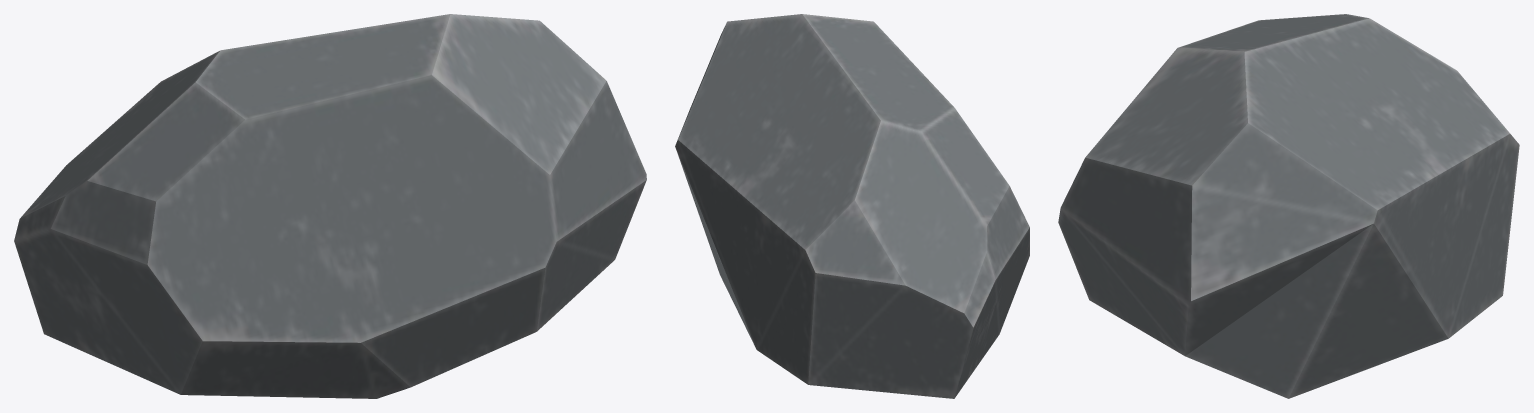
The model's file is rock4.glb.
The picture shows the model from 3 angles, left to right: view 1: azimuth 30°, elevation 25°; view 2: azimuth 150°, elevation 25°; view 3: azimuth 270°, elevation 25°; orthographic projection. The views are drawn at different scales.
Visible parts, largest first — view 1: rock_004; view 2: rock_004; view 3: rock_004.
Part boxes in pixels (x1=…): rock_004: x1=14, y1=14, x2=646, y2=398; rock_004: x1=675, y1=14, x2=1029, y2=398; rock_004: x1=1058, y1=14, x2=1519, y2=398.
Size of the model in its own units: 0.4661 by 0.2955 by 0.3981.
Materials: 1 (1 with a texture image).
